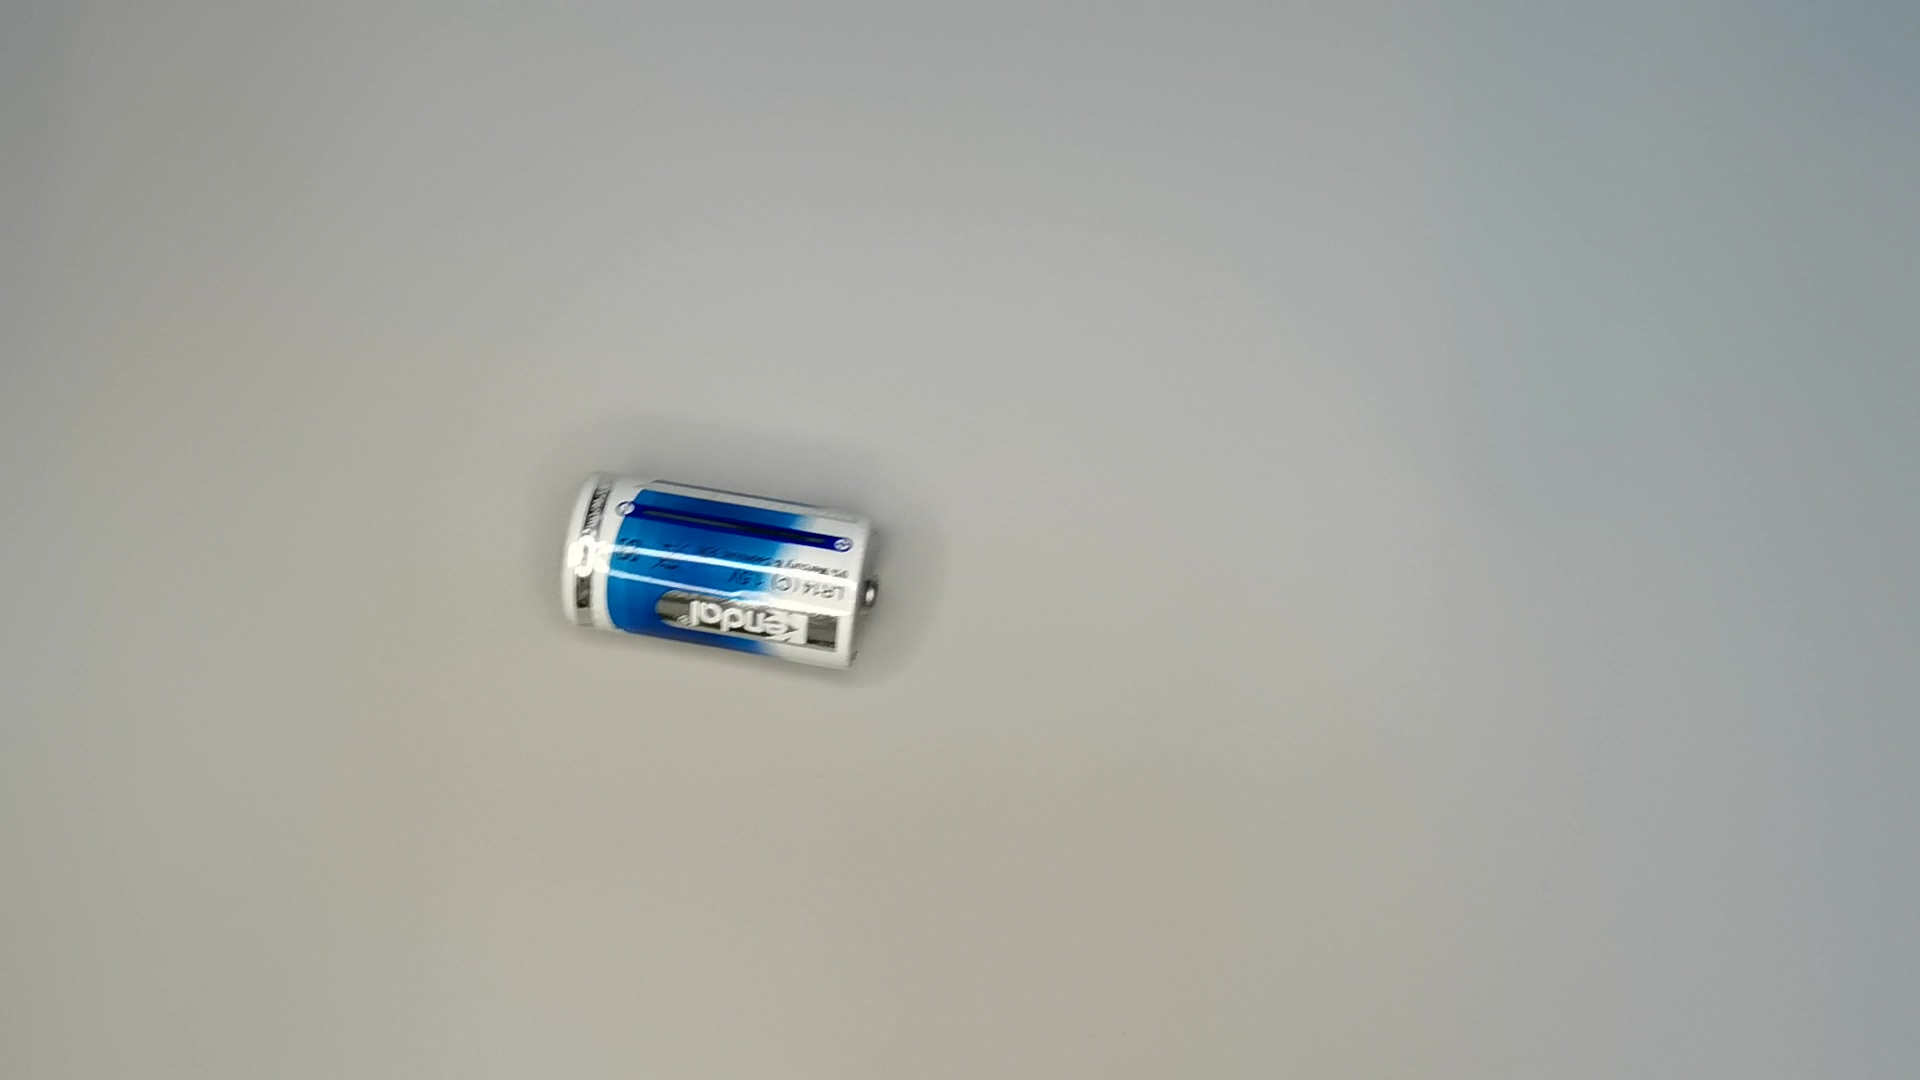battery: (555, 462, 885, 680)
